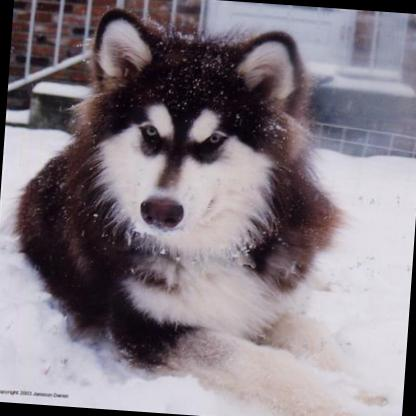Siberian_husky: (6, 1, 412, 416)
